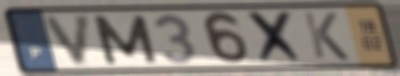3: (152, 11, 199, 66)
6: (200, 9, 251, 67)
K: (300, 11, 352, 63)
M: (88, 13, 161, 66)
V: (41, 12, 95, 68)
X: (244, 8, 309, 66)
